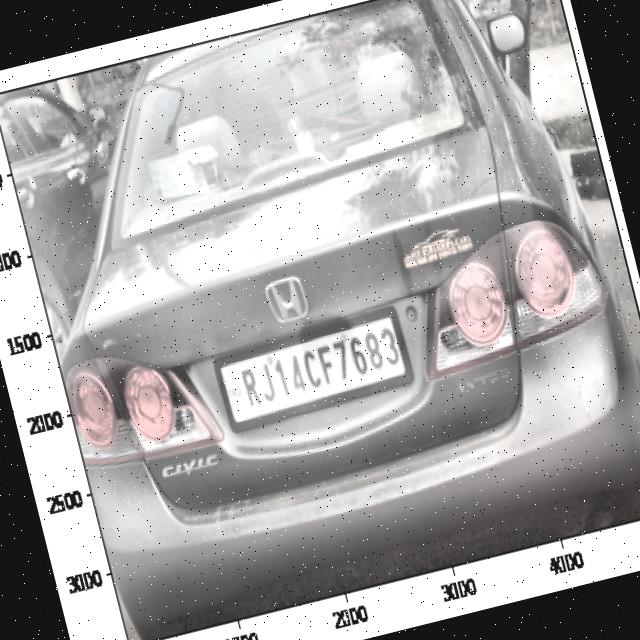license_plate: (228, 316, 411, 419)
